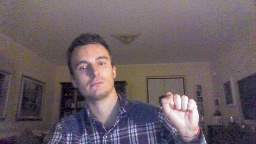Pugno: (156, 90, 201, 136)
